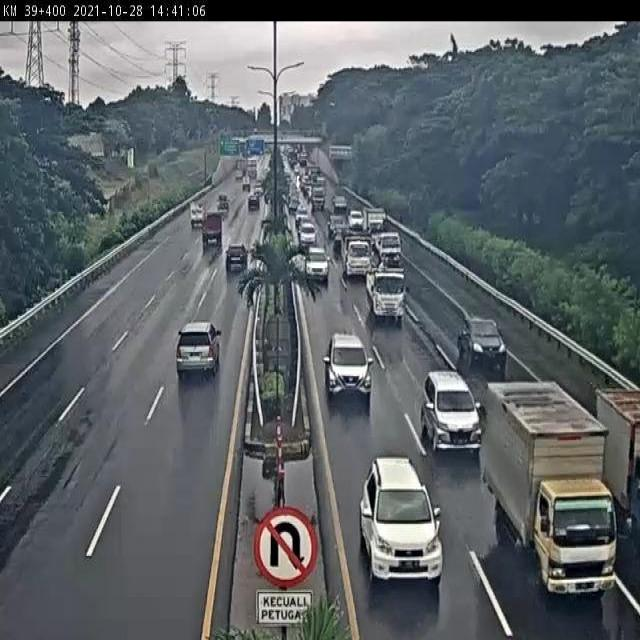car: (360, 458, 445, 586), (420, 368, 483, 453), (324, 332, 372, 403), (458, 315, 508, 372), (223, 241, 247, 271)
mid truck: (176, 321, 222, 376)
truck-m-: (483, 384, 618, 601), (363, 266, 407, 322)
